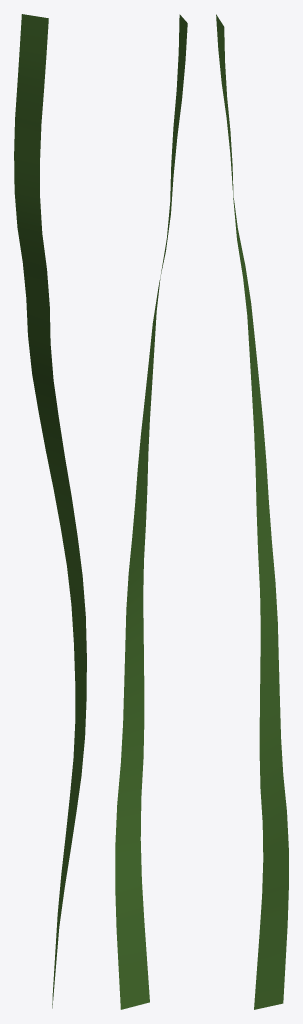
File: plant_swamp_kelp_giant_A_solo_B.fbx
The picture shows the model from 3 angles, left to right: view 1: azimuth 30°, elevation 25°; view 2: azimuth 150°, elevation 25°; view 3: azimuth 330°, elevation 25°; orthographic projection. The views are drawn at different scales.
Visible parts, largest first — view 1: plant_swamp_kelp_giant_A_solo_B; view 2: plant_swamp_kelp_giant_A_solo_B; view 3: plant_swamp_kelp_giant_A_solo_B.
Part boxes in pixels (x1,y1,x2,y2): plant_swamp_kelp_giant_A_solo_B: (14, 14, 86, 1008); plant_swamp_kelp_giant_A_solo_B: (115, 14, 187, 1009); plant_swamp_kelp_giant_A_solo_B: (216, 14, 288, 1009).
Bounding box in the file's own units: 32.2 × 516 × 26.86.
